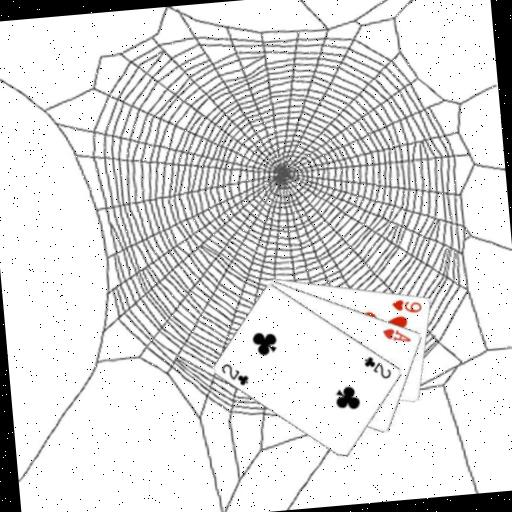2C: (360, 352, 393, 383), (218, 359, 251, 389)
9H: (389, 295, 424, 316)
AH: (379, 323, 413, 346)
